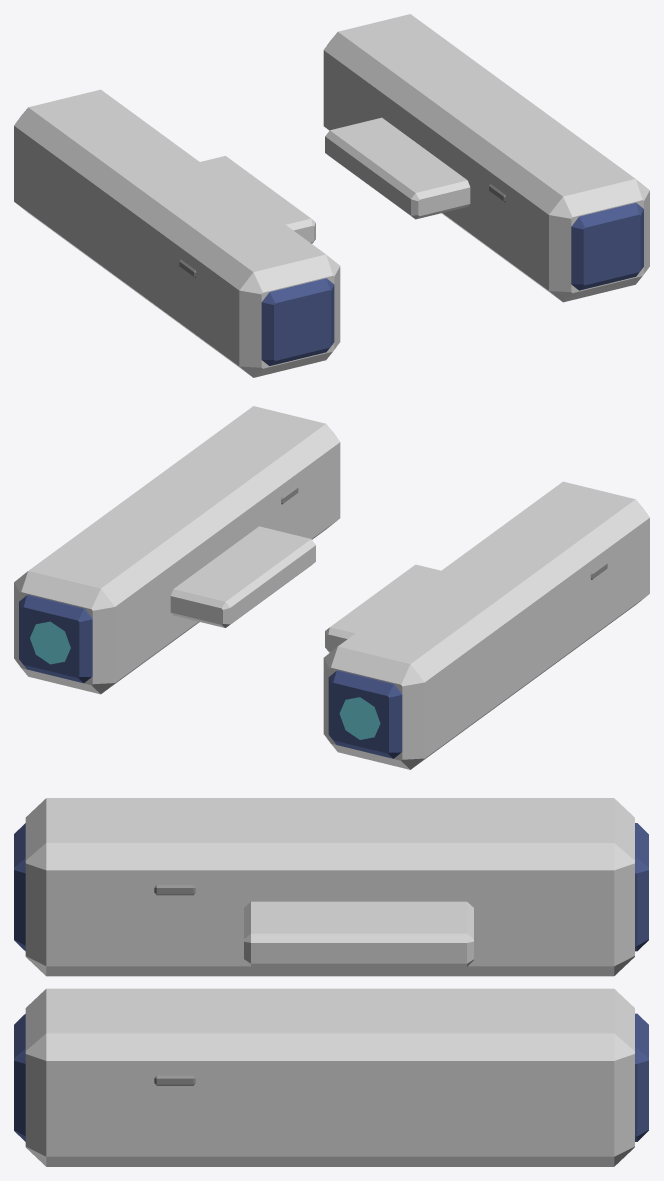
Rendered from engine_pods.obj.
The picture shows the model from 3 angles, top to bottom: view 1: azimuth 30°, elevation 25°; view 2: azimuth 150°, elevation 25°; view 3: azimuth 270°, elevation 25°; orthographic projection. The views are drawn at different scales.
Bounding box in the file's own units: 2.62 × 0.64 × 2.77.
